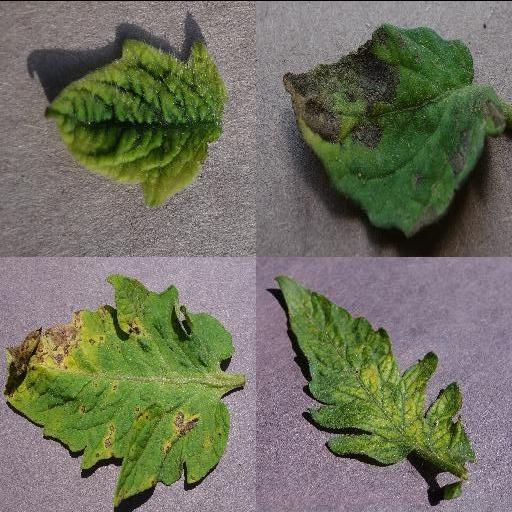Early Blight: (280, 22, 512, 233)
Mosaic Virus: (272, 273, 478, 477)
Septoria: (3, 274, 233, 502)
Yellow Leaf Curl Virus: (44, 35, 228, 202)
